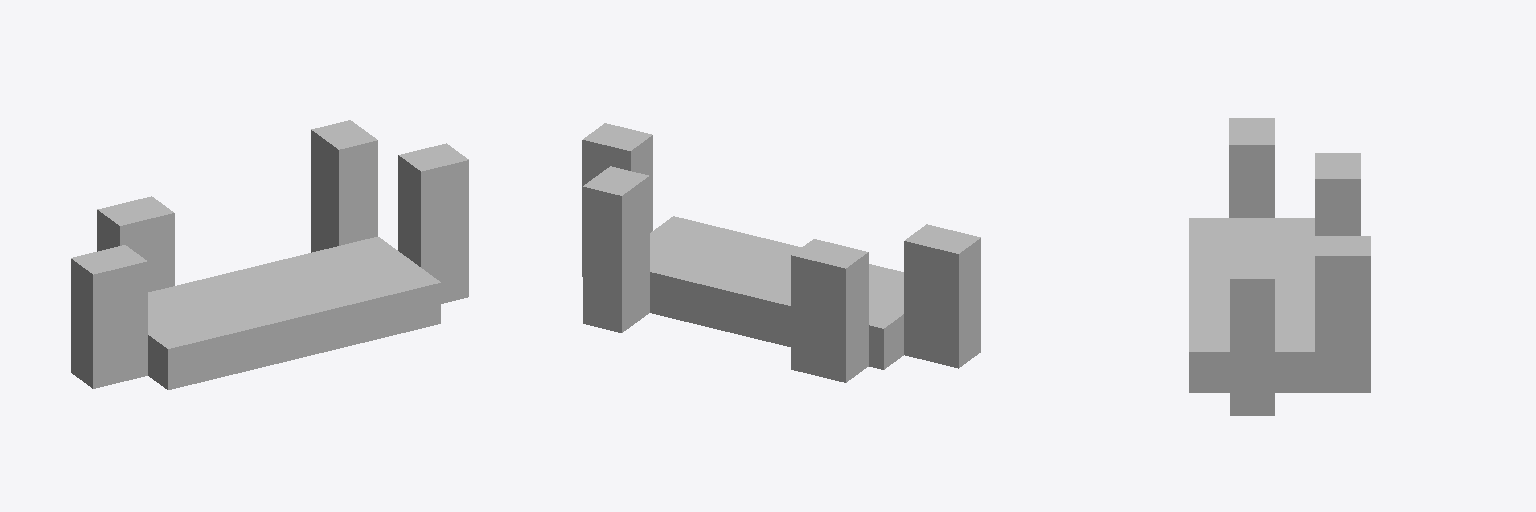
The model's file is Distractor_05.obj.
The picture shows the model from 3 angles: view 1: azimuth 30°, elevation 25°; view 2: azimuth 150°, elevation 25°; view 3: azimuth 270°, elevation 25°; orthographic projection.
Visible parts, largest first — view 1: mesh_1_Long-3; view 2: mesh_1_Long-3; view 3: mesh_1_Long-3.
Part boxes in pixels (x1,y1,x2,y2): mesh_1_Long-3: (71, 120, 468, 389); mesh_1_Long-3: (582, 123, 980, 382); mesh_1_Long-3: (1189, 118, 1370, 415).
Size of the model in its own units: 0.172 by 0.06 by 0.072.